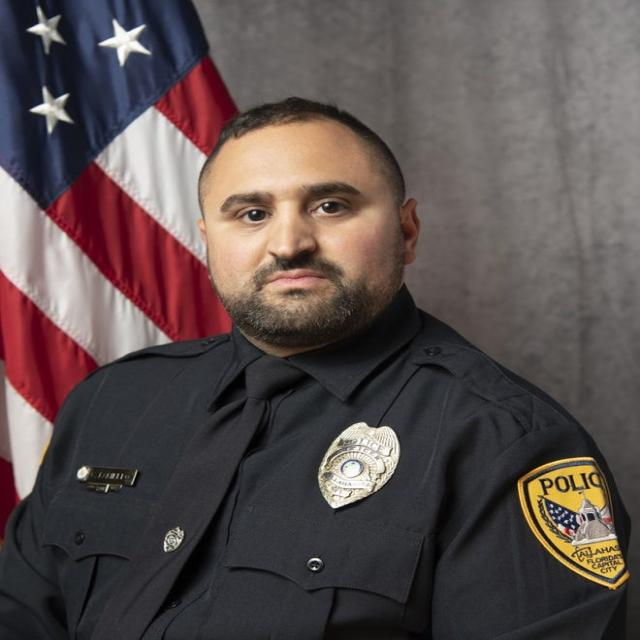police: (8, 87, 637, 640)
